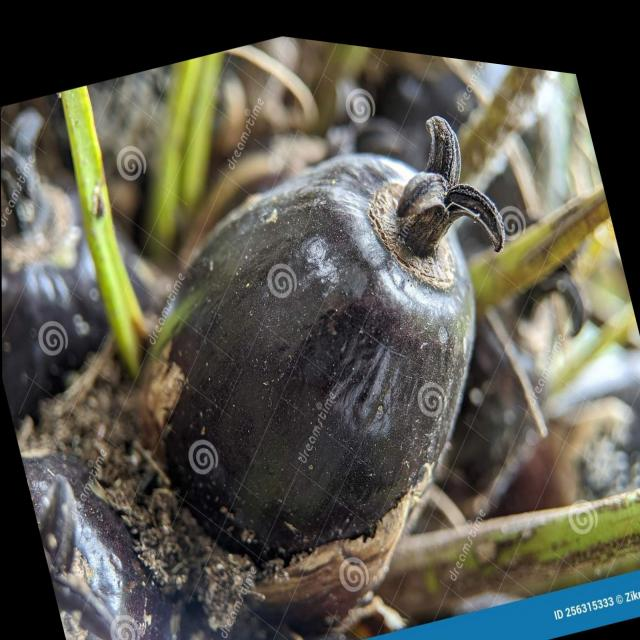Unripe: (90, 51, 570, 634)
